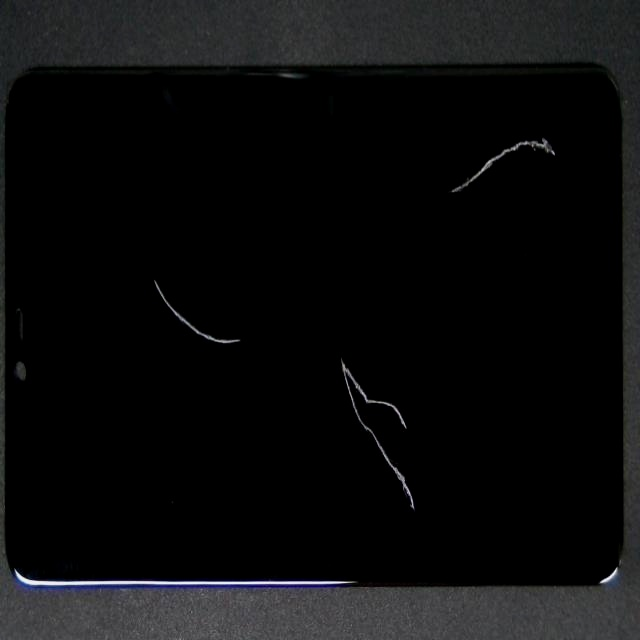scratch: (258, 377, 607, 640), (181, 213, 330, 470), (314, 101, 640, 207)
